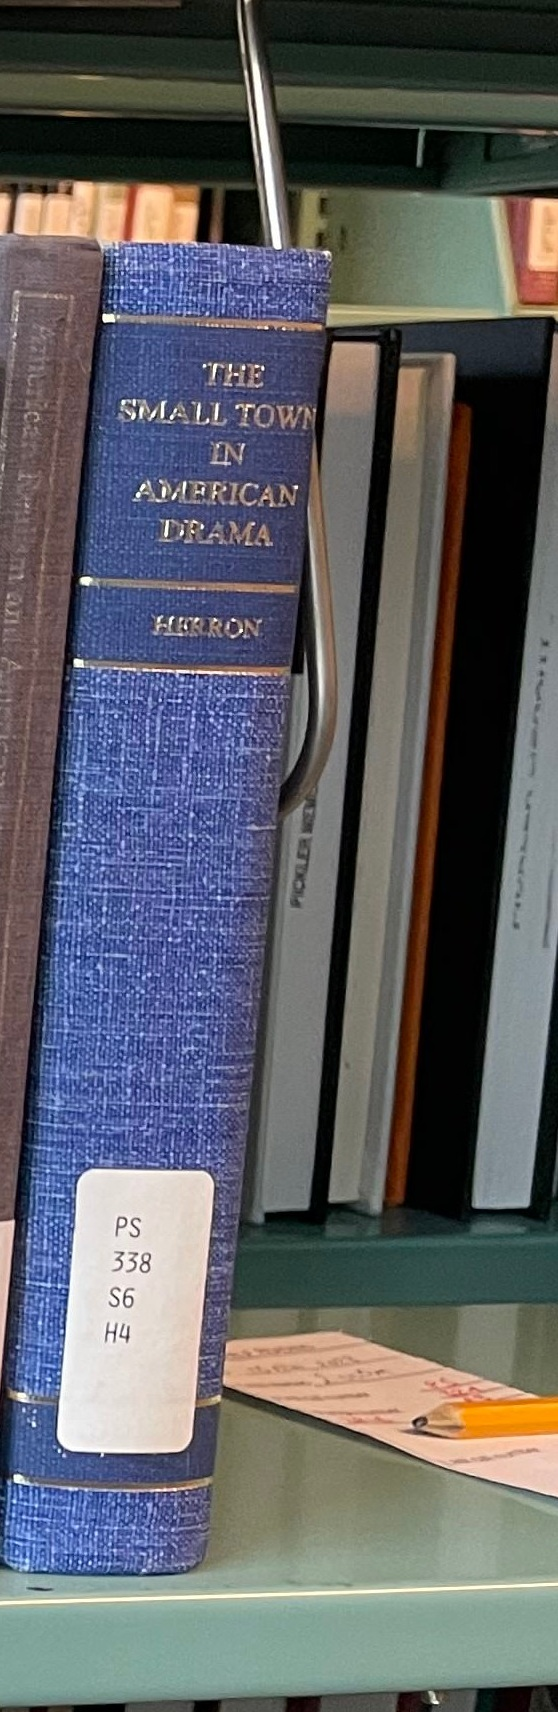call_number: (66, 1157, 204, 1454)
